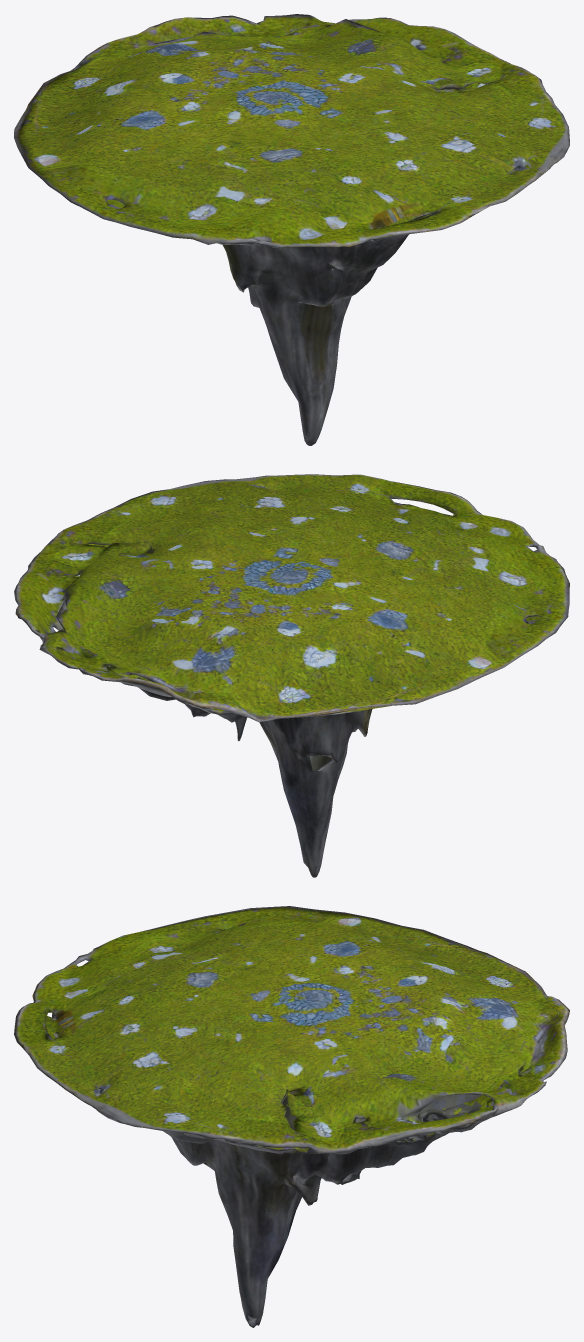
The model's file is Floating_Island_0202060342_texture.obj.
3 renders of one model, top to bottom at view 1: azimuth 30°, elevation 25°; view 2: azimuth 150°, elevation 25°; view 3: azimuth 270°, elevation 25°, orthographic.
Parts seen in each view (by area): view 1: Floating_Island_0202060342_texture; view 2: Floating_Island_0202060342_texture; view 3: Floating_Island_0202060342_texture.
Part boxes in pixels (<box>): Floating_Island_0202060342_texture: <box>14,14,569,445</box>; Floating_Island_0202060342_texture: <box>14,474,569,877</box>; Floating_Island_0202060342_texture: <box>14,906,569,1327</box>.
Size of the model in its own units: 1.99 by 1.29 by 1.98.
1 material, 1 textured.
